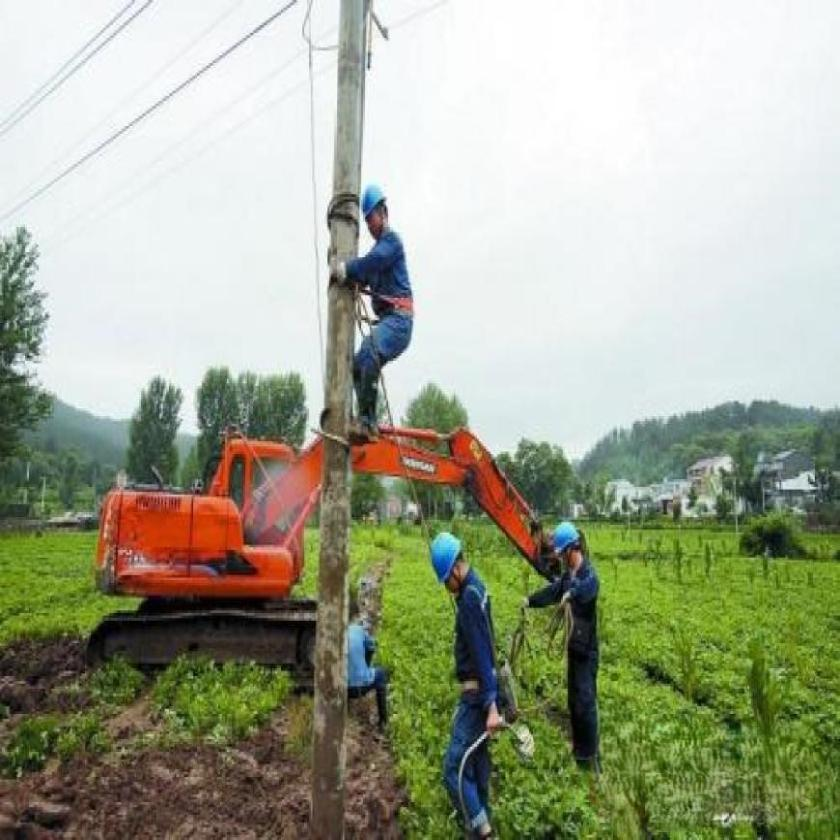Con_casco: (429, 526, 469, 604), (548, 518, 586, 577), (360, 179, 390, 237)
